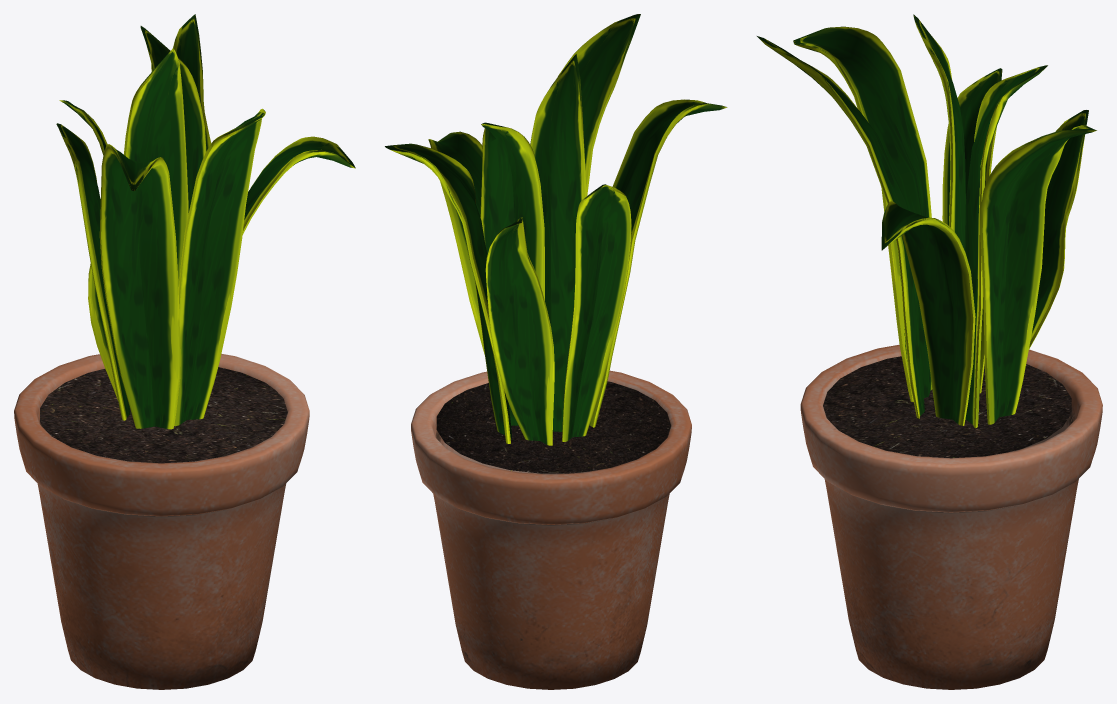
Rendered from DracaenaTrifasciataPlant.fbx.
3 views of the same model, side by side, from view 1: azimuth 30°, elevation 25°; view 2: azimuth 150°, elevation 25°; view 3: azimuth 270°, elevation 25° (orthographic). The views are drawn at different scales.
Parts seen in each view (by area): view 1: Dracaena; view 2: Dracaena; view 3: Dracaena.
Part boxes in pixels (x1,y1,x2,y2): Dracaena: (14, 14, 355, 689); Dracaena: (385, 14, 727, 689); Dracaena: (757, 14, 1102, 689).
Size of the model in its own units: 0.3607 by 0.368 by 0.7453.
Materials: 3 (3 with a texture image).
